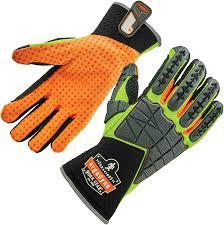gloves: (59, 45, 222, 225), (1, 1, 162, 155)
